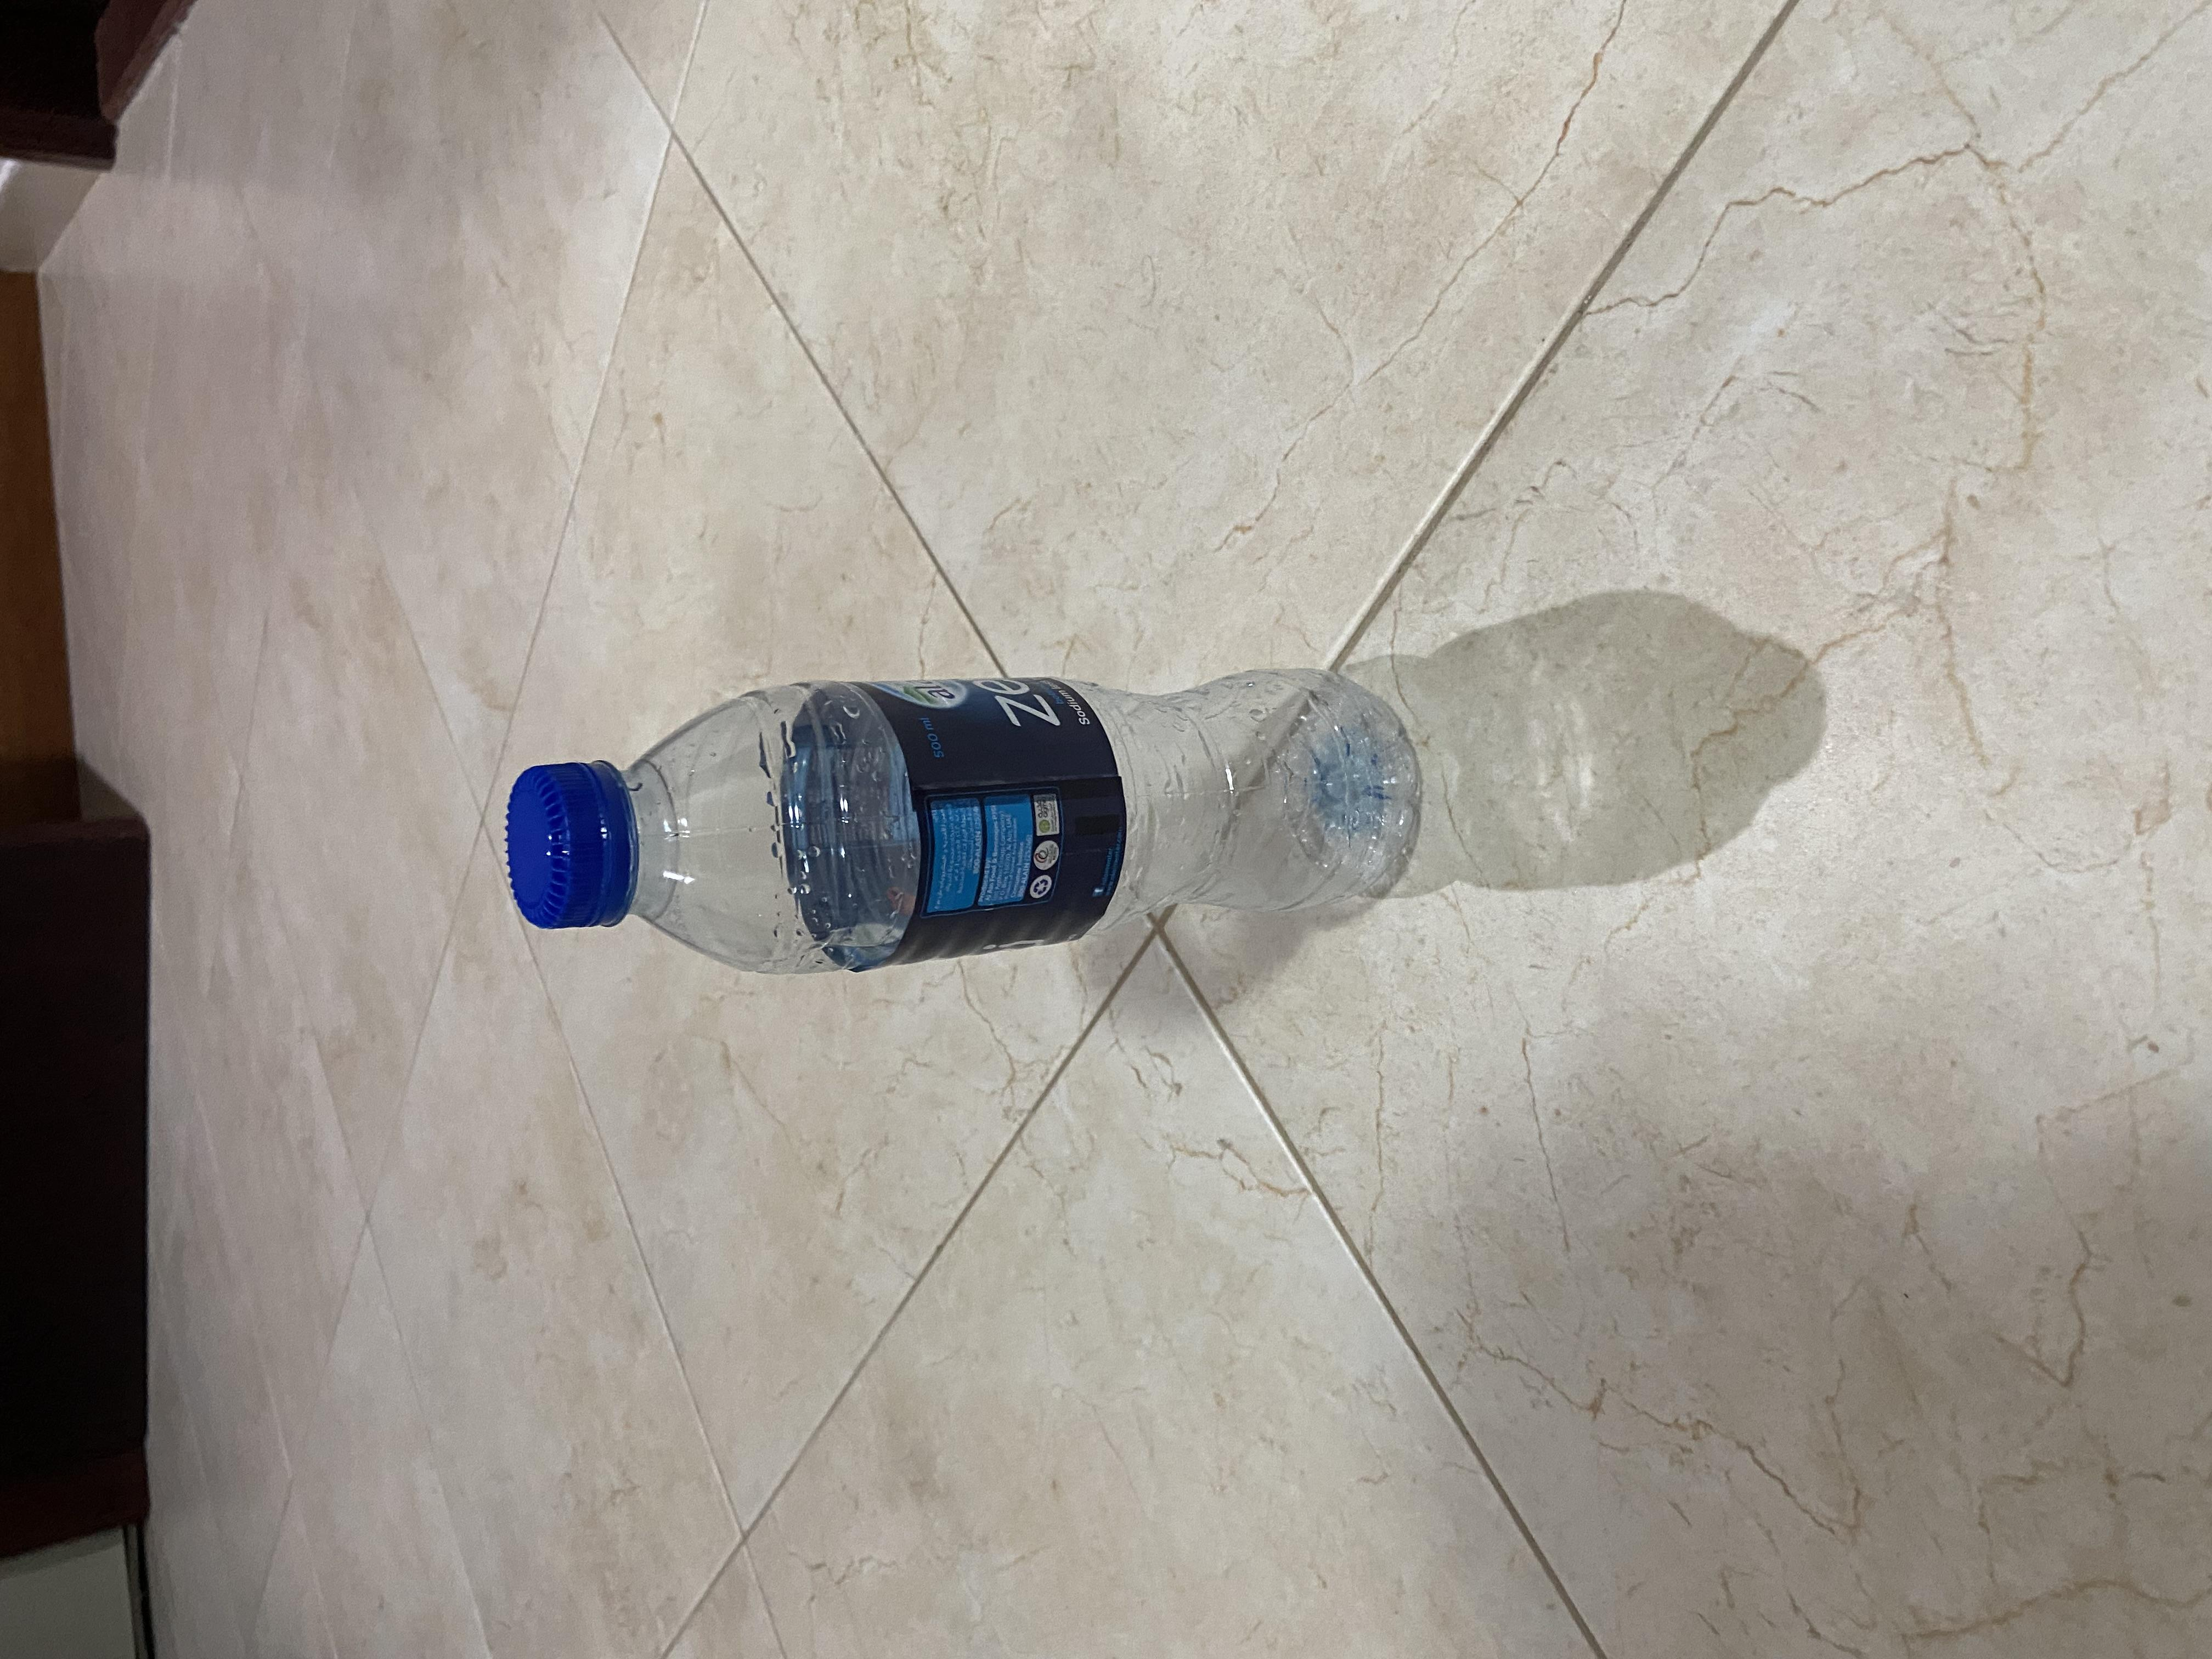bottle: (909, 368, 1348, 1063)
